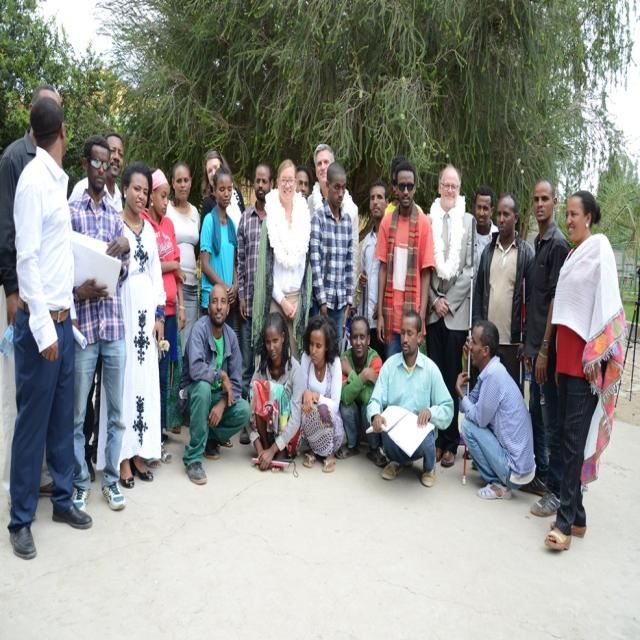body: (5, 94, 97, 563), (542, 189, 630, 556), (0, 83, 64, 510), (66, 136, 131, 516), (67, 134, 131, 485), (468, 191, 536, 472), (421, 159, 481, 470), (519, 177, 572, 518), (114, 160, 166, 492), (364, 308, 456, 490), (173, 280, 251, 489), (453, 316, 538, 504), (138, 166, 188, 470), (371, 160, 437, 363), (196, 165, 242, 452), (251, 156, 314, 362), (236, 160, 276, 446), (243, 309, 305, 475), (306, 141, 361, 319), (309, 160, 353, 360), (334, 312, 388, 471), (297, 313, 349, 475), (162, 160, 201, 358), (355, 178, 390, 366), (198, 148, 247, 252), (472, 184, 500, 276), (384, 156, 424, 216), (294, 165, 312, 201)
